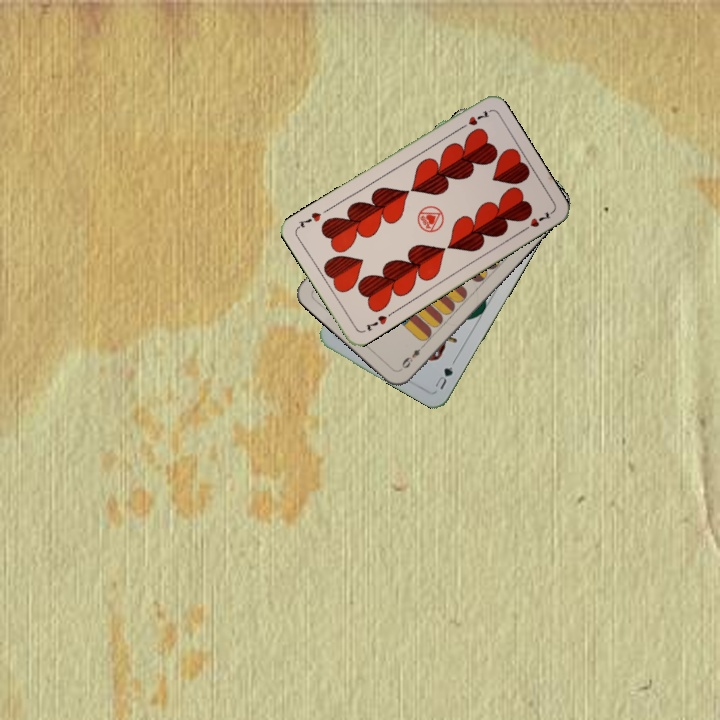E9: (396, 340, 428, 373)
GU: (431, 362, 456, 392)
H7: (455, 106, 492, 132), (361, 311, 390, 334)
